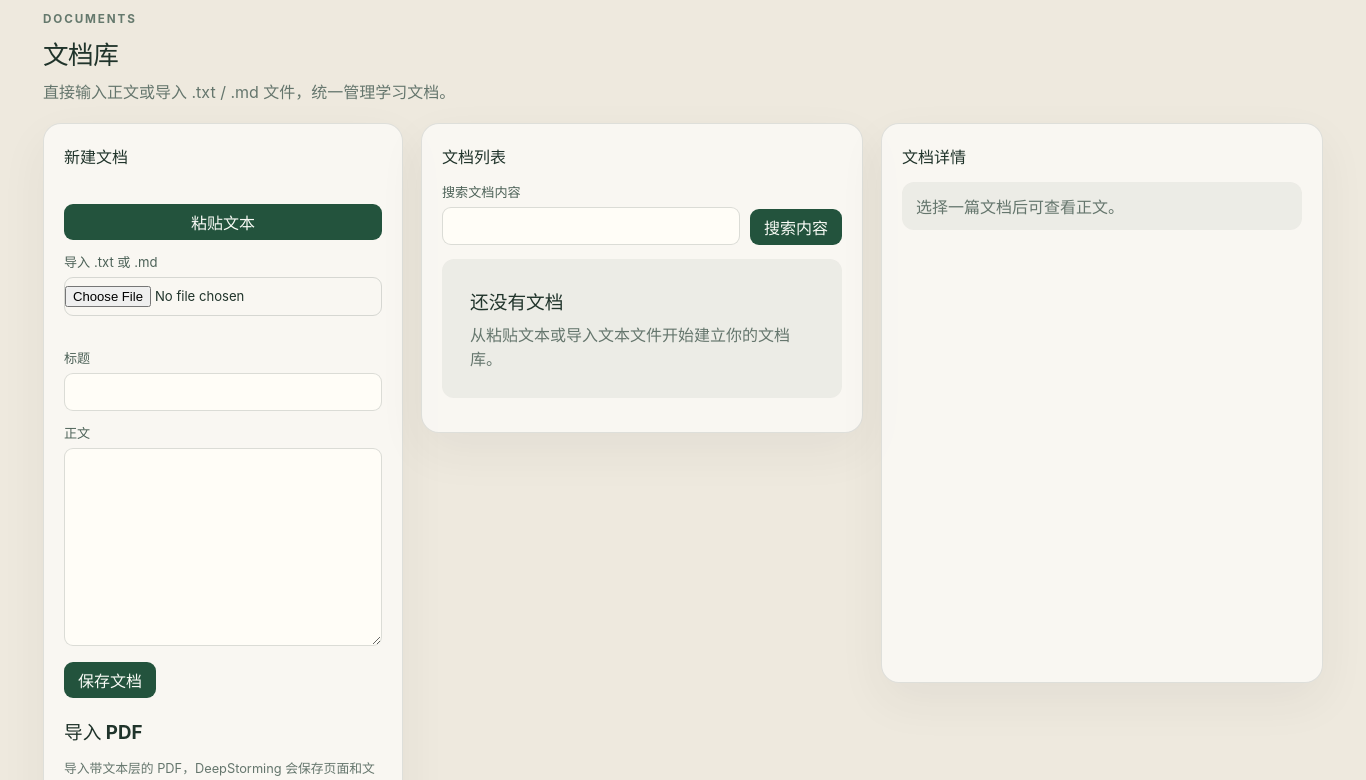
Scenario: DocumentLibrary › creates a pasted text document and opens its detail
Click the button "粘贴文本".
click(223, 222)  # box [64, 204, 382, 240]
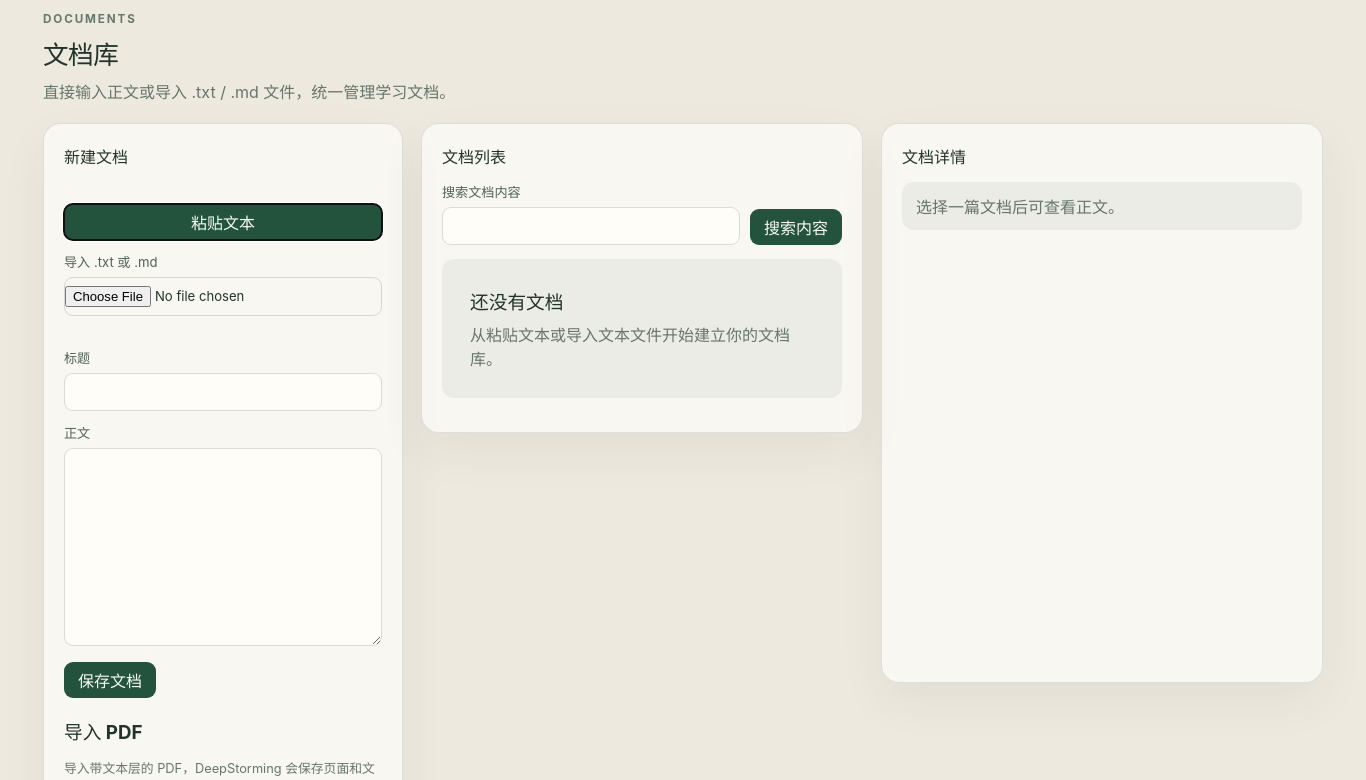
Type "Notes" into the field labelled "标题".
click(223, 392); type("Notes")  # box [64, 373, 382, 411]
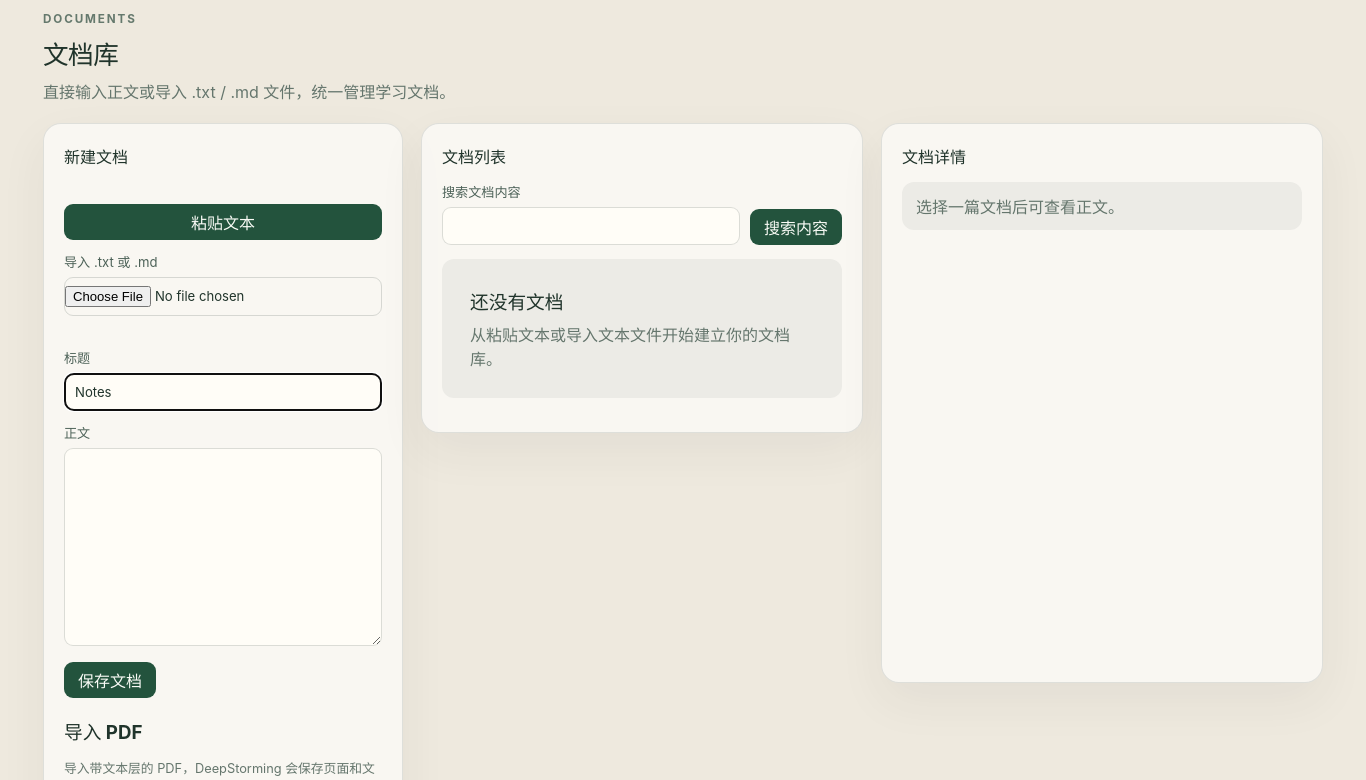
Type "body" into the text box labelled "正文".
click(223, 547); type("body")  # box [64, 448, 382, 646]
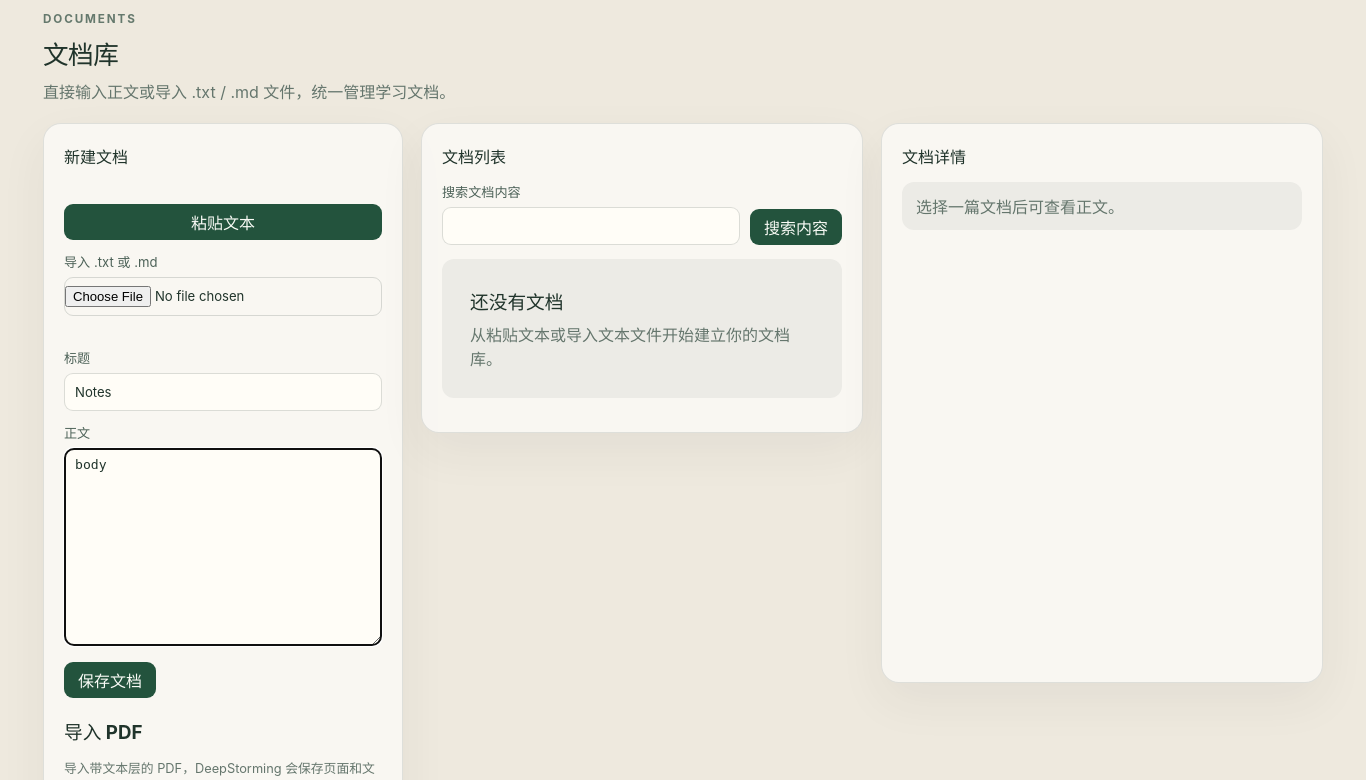
Click the button "保存文档".
click(110, 680)  # box [64, 662, 156, 698]
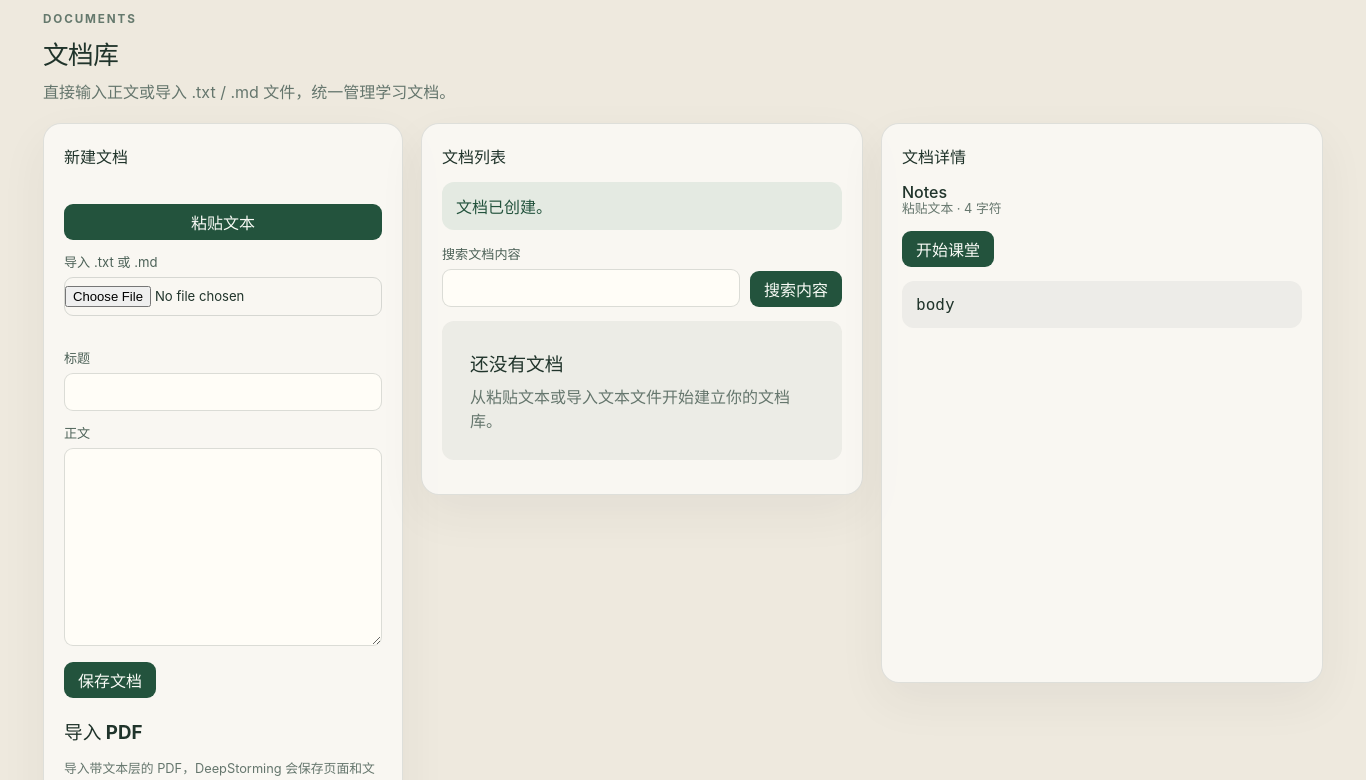
Now the text "文档已创建。" is shown, box [442, 182, 842, 230]
Now the heading "Notes" is shown, box [902, 182, 947, 202]
